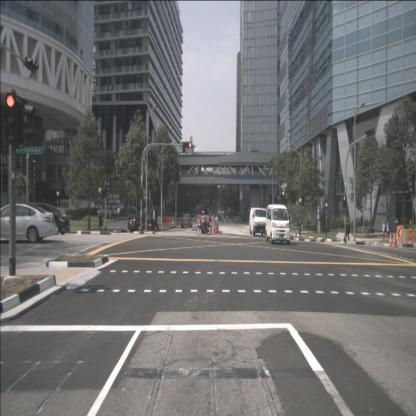human-pedestrian-adult: (345, 218, 351, 243), (98, 210, 104, 232), (395, 218, 399, 234), (117, 206, 121, 222)
movable_object-barrier: (405, 229, 416, 244), (397, 229, 406, 244), (162, 217, 172, 225), (157, 216, 163, 224)
movable_object-trafficcone: (408, 221, 412, 244), (388, 233, 393, 248), (392, 233, 396, 248), (215, 219, 219, 234), (210, 221, 214, 232), (211, 223, 214, 234)
vehicle-car: (0, 203, 56, 244), (12, 202, 70, 235), (266, 204, 290, 245), (127, 212, 159, 233), (249, 207, 270, 236), (180, 213, 192, 228)
vehicle-motorcycle: (196, 210, 212, 235)
